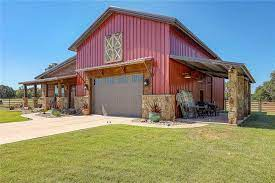Tin-shade House: (9, 7, 255, 127)
